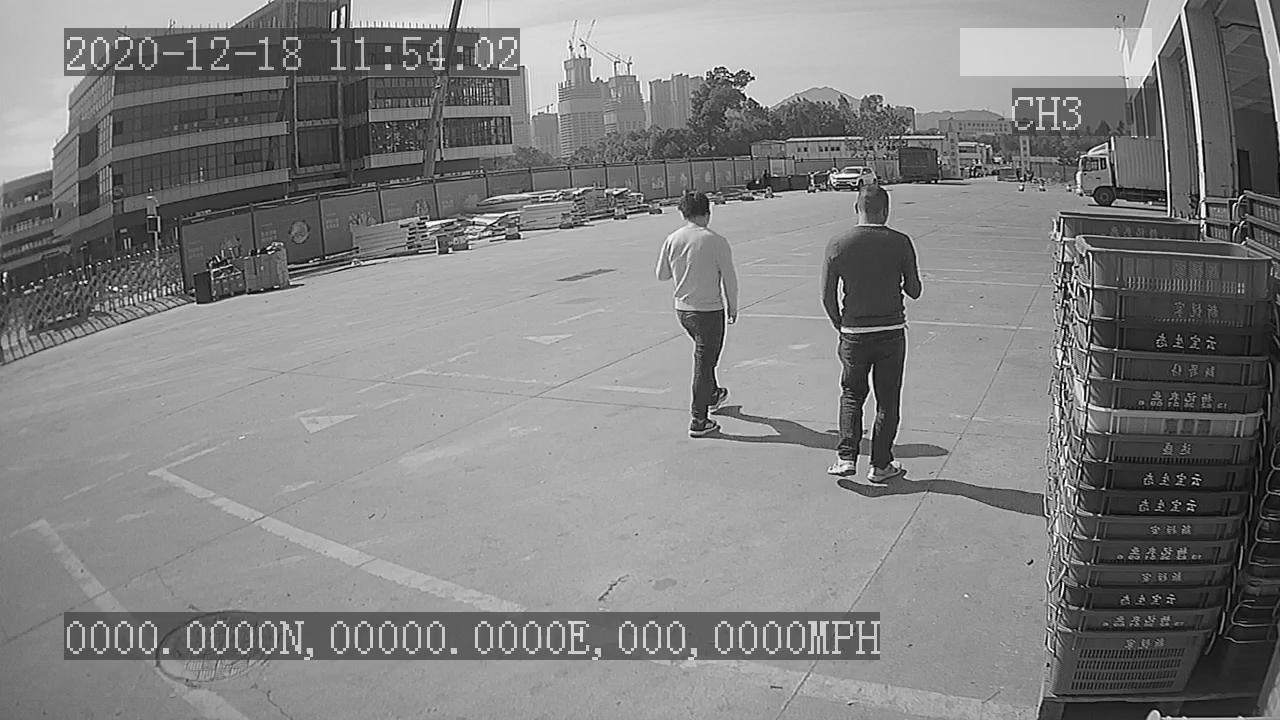person: (808, 181, 933, 488), (643, 188, 745, 442)
